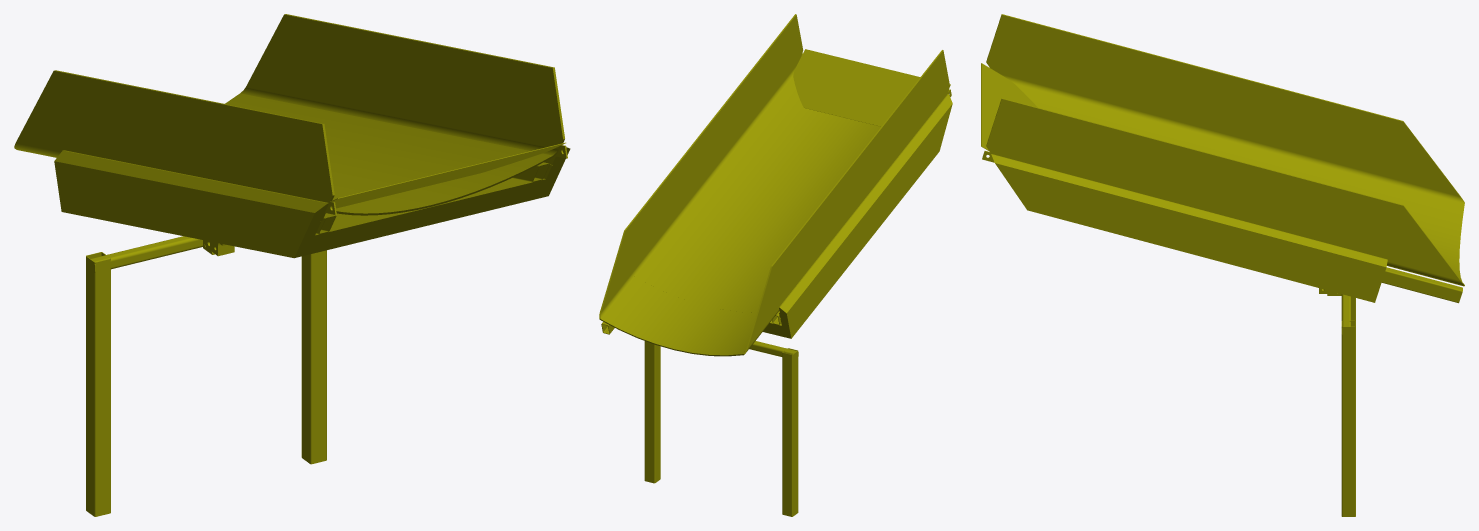
Rendered from CHU-07.fbx.
3 views of the same model, side by side, from view 1: azimuth 30°, elevation 25°; view 2: azimuth 150°, elevation 25°; view 3: azimuth 270°, elevation 25° (orthographic). The views are drawn at different scales.
Parts seen in each view (by area): view 1: Shell; view 2: Shell; view 3: Shell.
Part boxes in pixels (<box>): Shell: <box>14,14,570,516</box>; Shell: <box>599,14,952,516</box>; Shell: <box>981,14,1464,516</box>.
Size of the model in its own units: 46 by 101 by 96.58.
